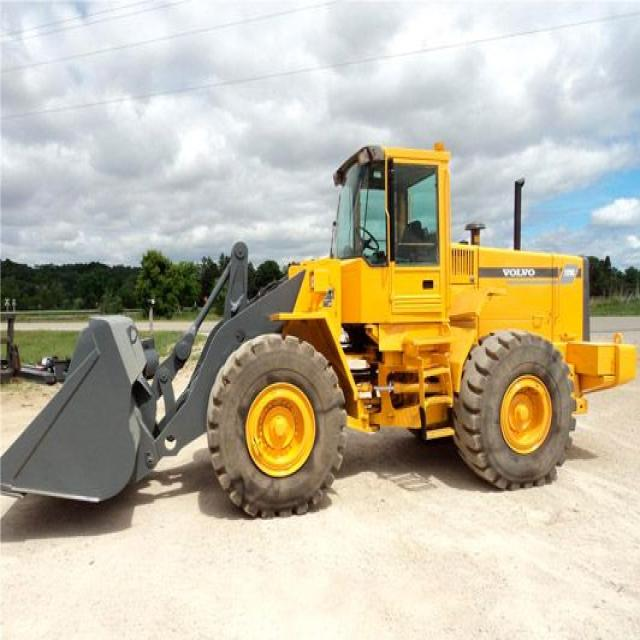buldozerpayloadergrader: (5, 141, 640, 520)
